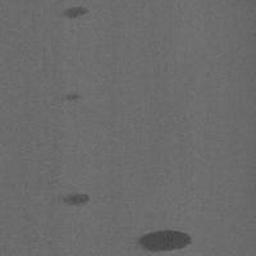Oil spot: (133, 228, 193, 253), (54, 5, 90, 20), (60, 191, 90, 209), (64, 90, 84, 102)
